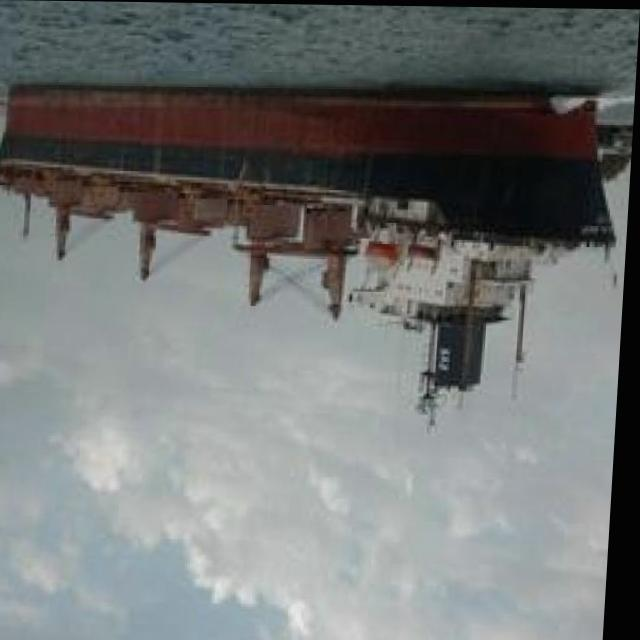ship2: (0, 80, 621, 428)
